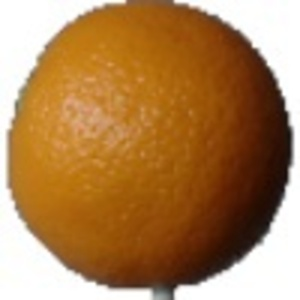laranja: (5, 4, 294, 290)
